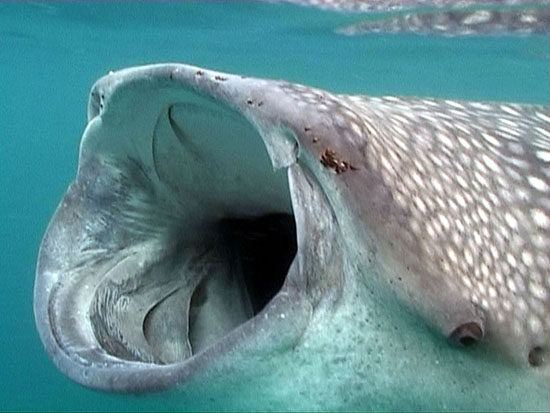Rhincodon_typusw: (30, 43, 550, 411)
